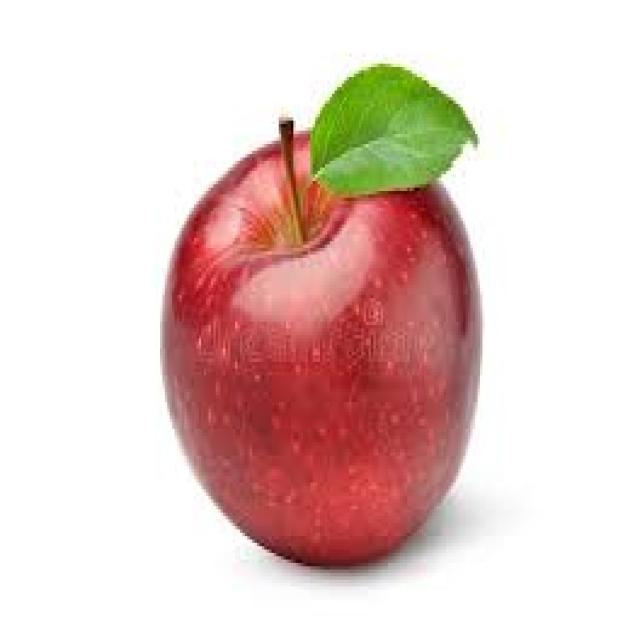apple: (155, 94, 481, 582)
